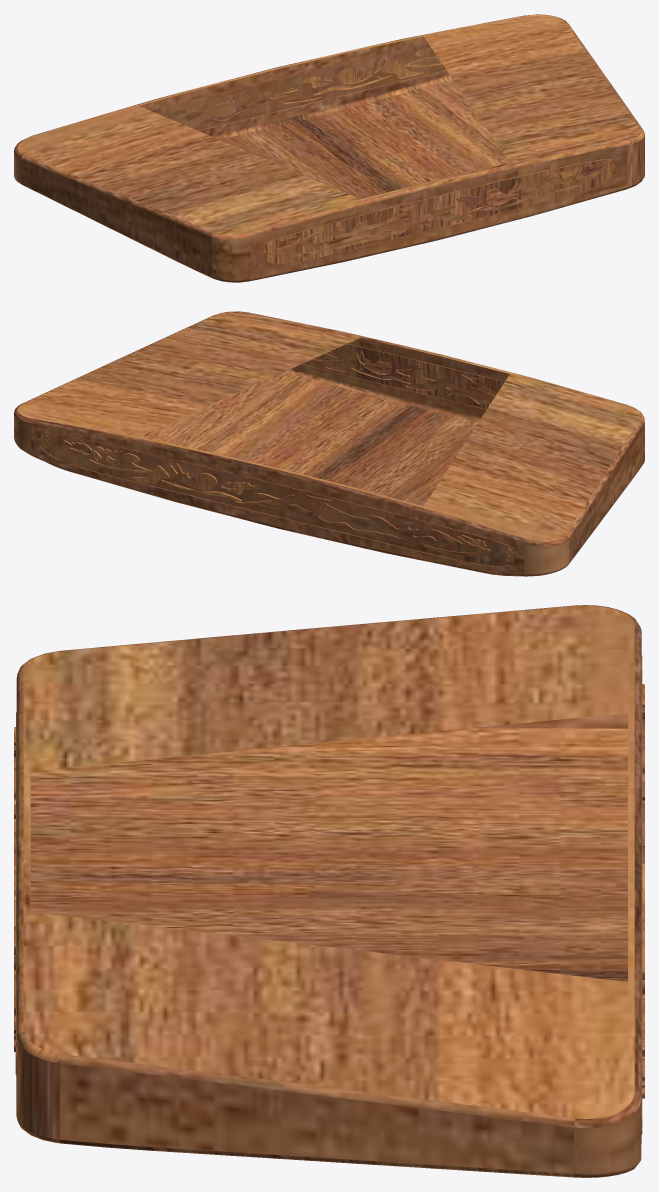
The model's file is gongmingxiang.fbx.
3 views of the same model, one above another, from view 1: azimuth 30°, elevation 25°; view 2: azimuth 150°, elevation 25°; view 3: azimuth 270°, elevation 25° (orthographic). The views are drawn at different scales.
Visible parts, largest first — view 1: 共鸣箱; view 2: 共鸣箱; view 3: 共鸣箱.
Boxes of the visible parts, left/top/right/bottom form: 共鸣箱: left=14, top=14, right=644, bottom=282; 共鸣箱: left=14, top=311, right=644, bottom=576; 共鸣箱: left=14, top=605, right=644, bottom=1177.
Bounding box in the file's own units: 88.53 × 9.16 × 45.43.
Materials: 1 (1 with a texture image).
